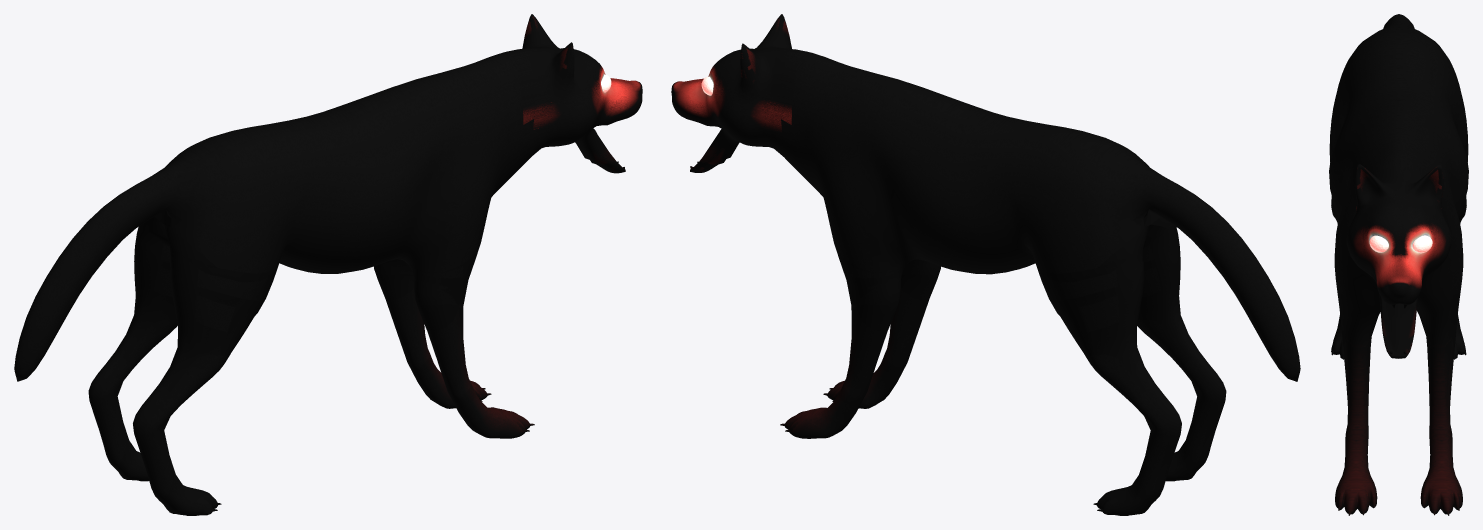
The model's file is housewip.glb.
3 views of the same model, side by side, from view 1: azimuth 30°, elevation 25°; view 2: azimuth 150°, elevation 25°; view 3: azimuth 270°, elevation 25° (orthographic).
Visible parts, largest first — view 1: wolf; view 2: wolf; view 3: wolf, wolf.001.
Boxes of the visible parts, box(x1,y1,x2,y2) form: wolf: box(14, 14, 642, 515); wolf: box(671, 14, 1300, 515); wolf: box(1329, 14, 1468, 515); wolf.001: box(1369, 235, 1432, 253).
Bounding box in the file's own units: 0.6597 × 0.3731 × 0.126.
2 materials, 1 textured.
